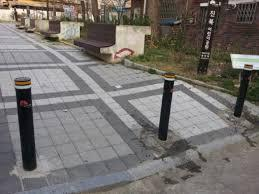Animal: (14, 71, 41, 163), (146, 71, 175, 139), (232, 66, 254, 118)
